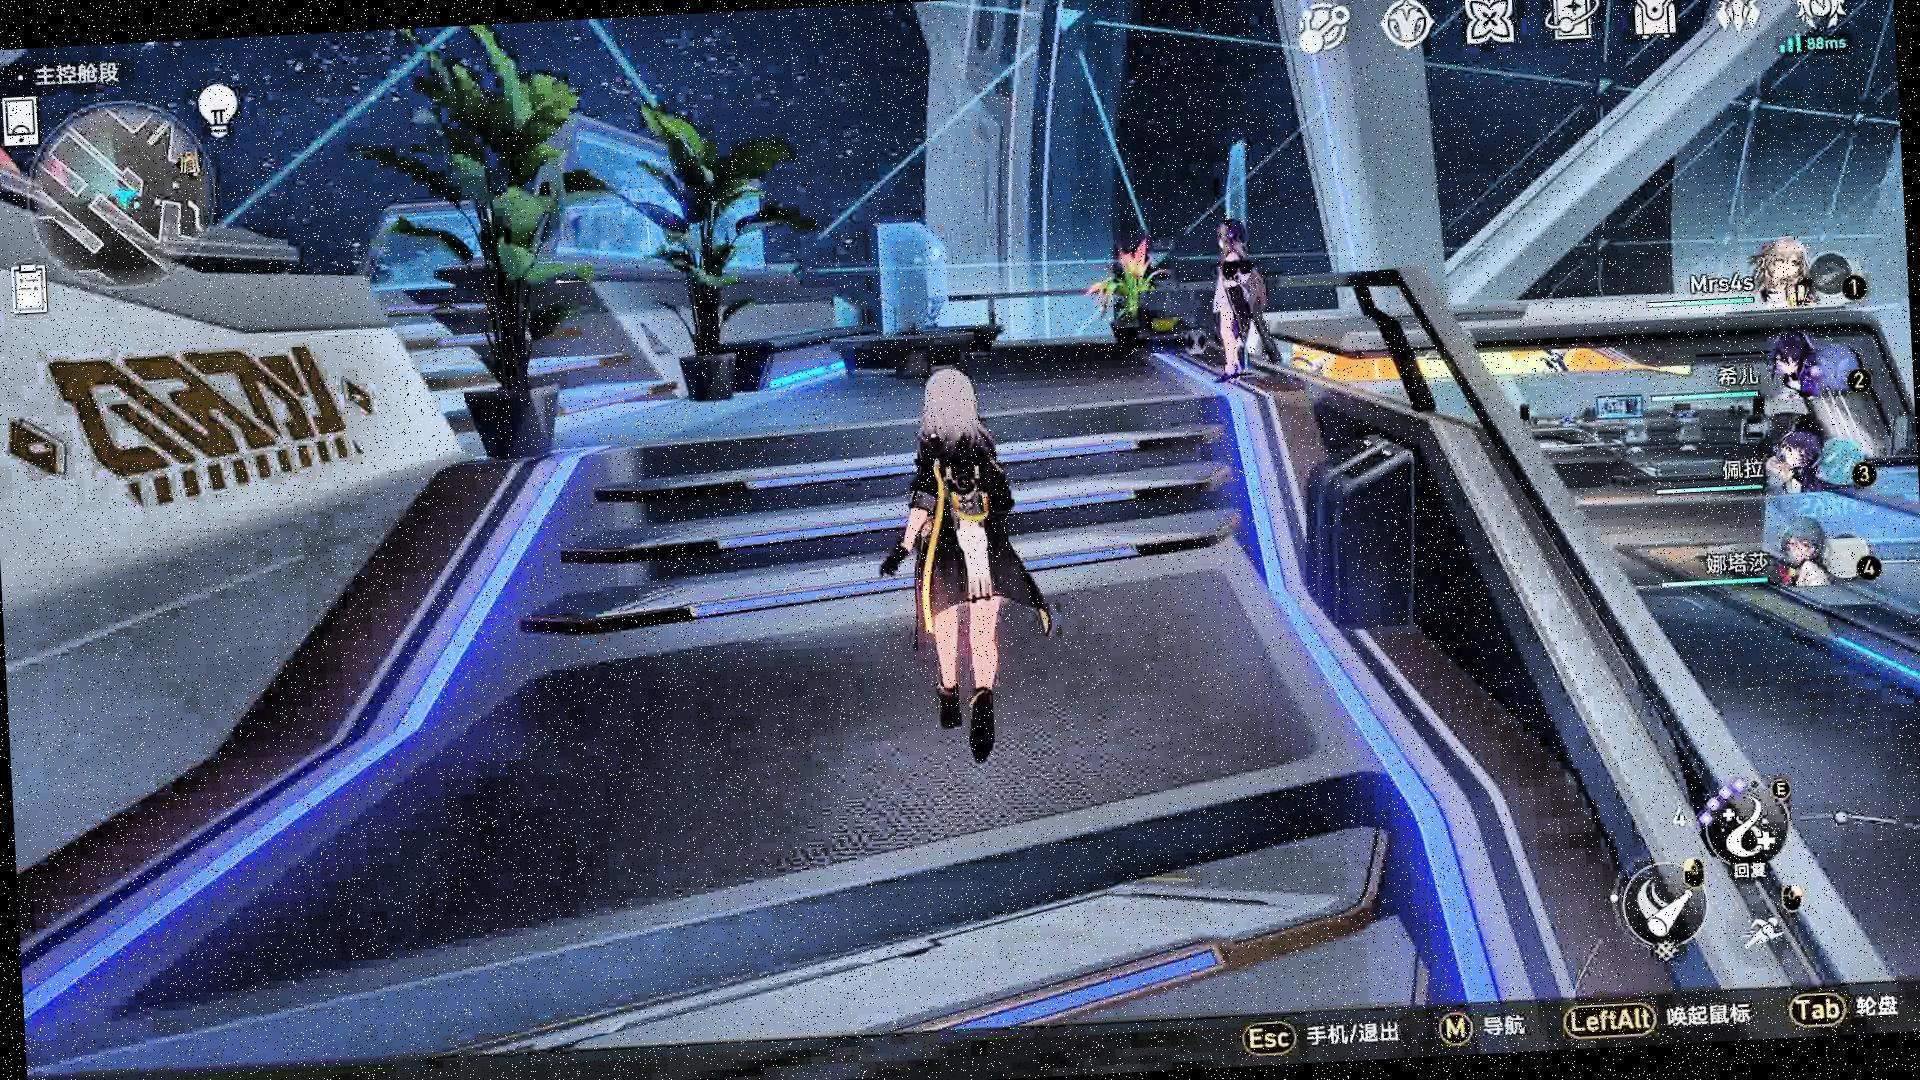Self: (872, 356, 1064, 771)
TeamMate: (1203, 215, 1271, 389)
